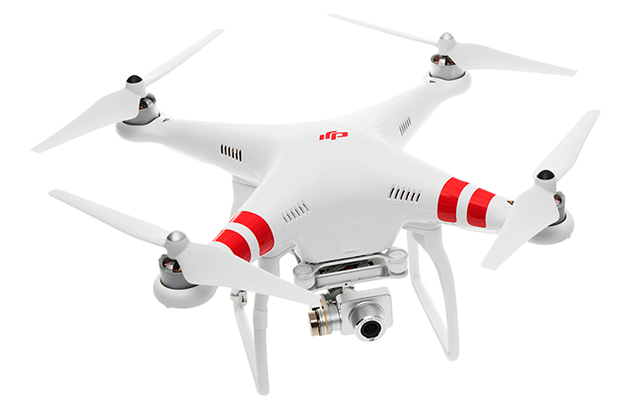drone: (28, 11, 606, 399)
